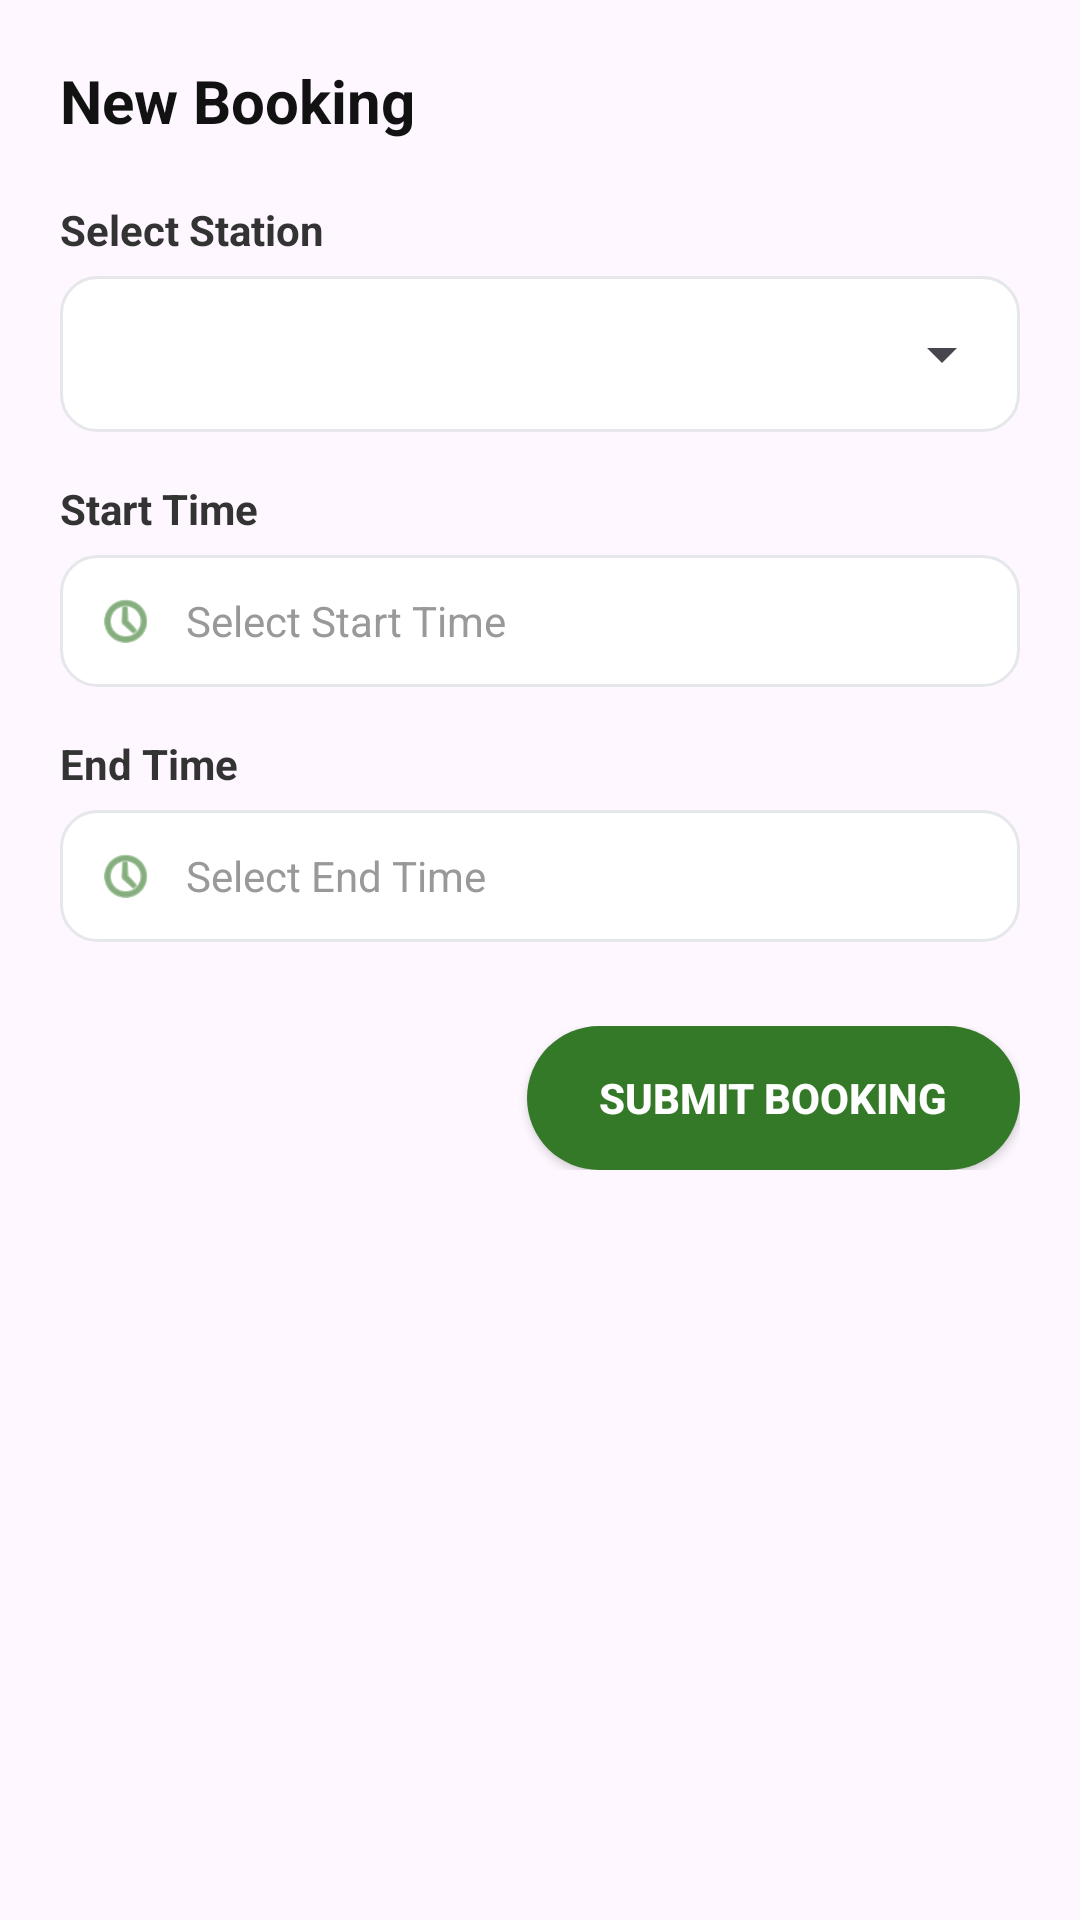

Named icons in this screenshot (1080px×1920px) and their bounding boxes, (x1, y1, x2, y2):
recent history: (104, 600, 147, 643), (104, 855, 147, 898)
